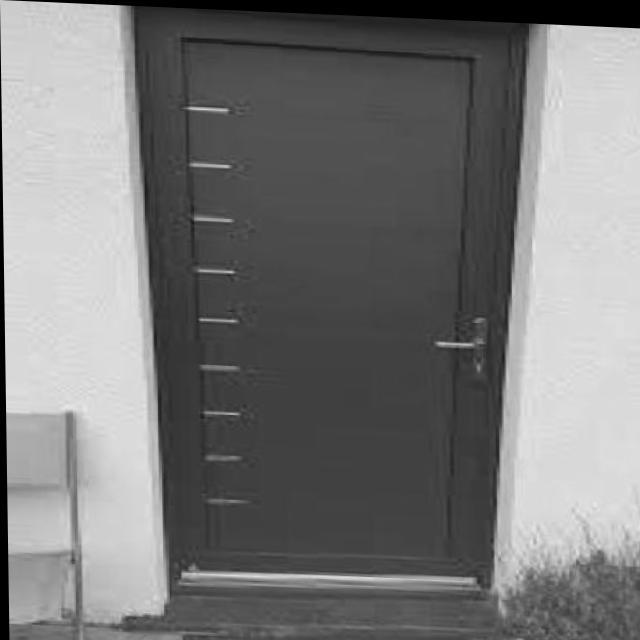door_handle: (428, 328, 486, 352)
